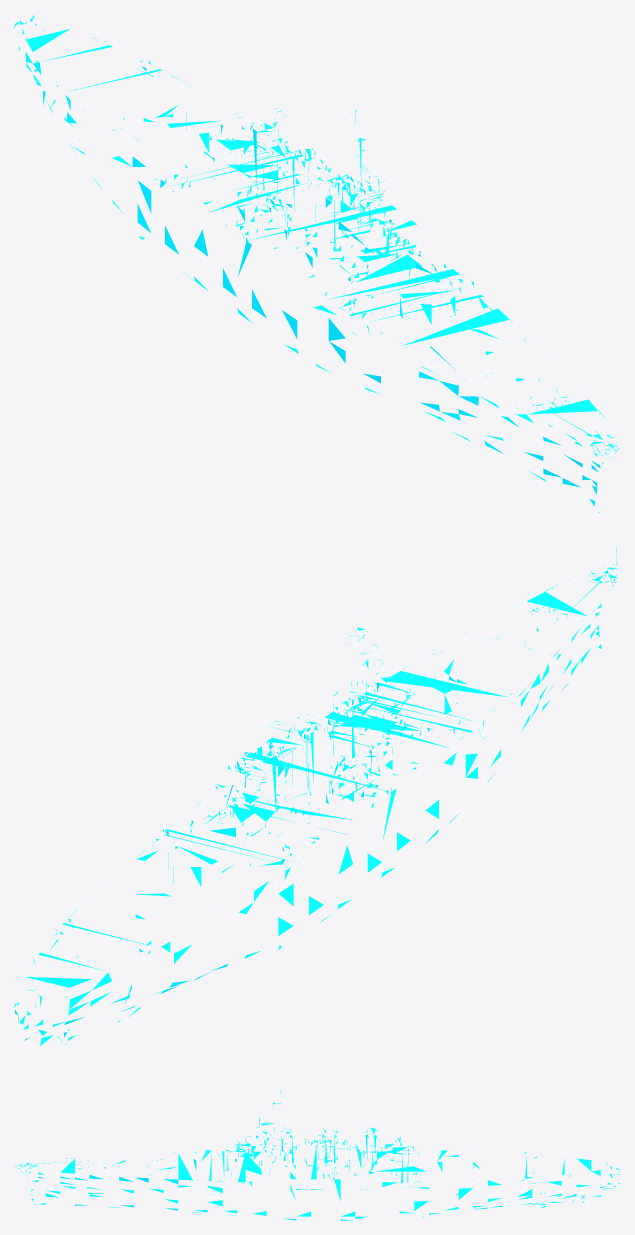
File: Connecticut.glb
3 views of the same model, one above another, from view 1: azimuth 30°, elevation 25°; view 2: azimuth 150°, elevation 25°; view 3: azimuth 270°, elevation 25° (orthographic). The views are drawn at different scales.
Bounding box in the file's own units: 2.67 × 3.9 × 18.81.
